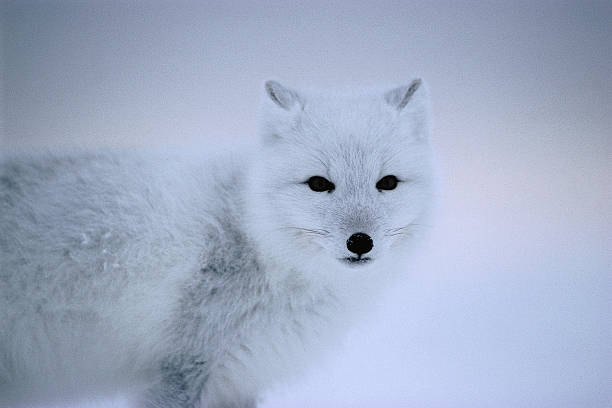arcticfox: (257, 84, 420, 273)
